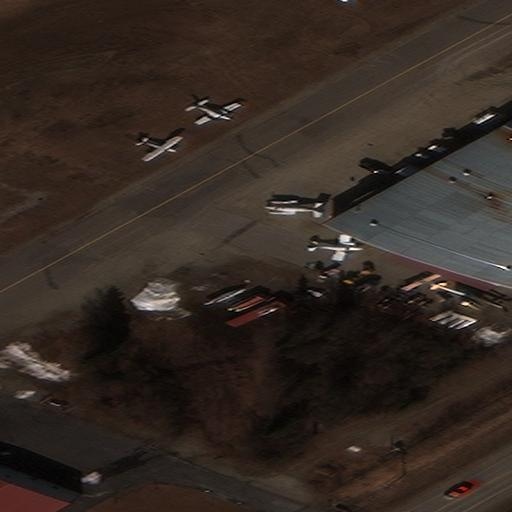Small Civil Transport: (308, 234, 363, 261), (191, 102, 242, 126), (138, 137, 183, 162), (263, 200, 321, 213)
